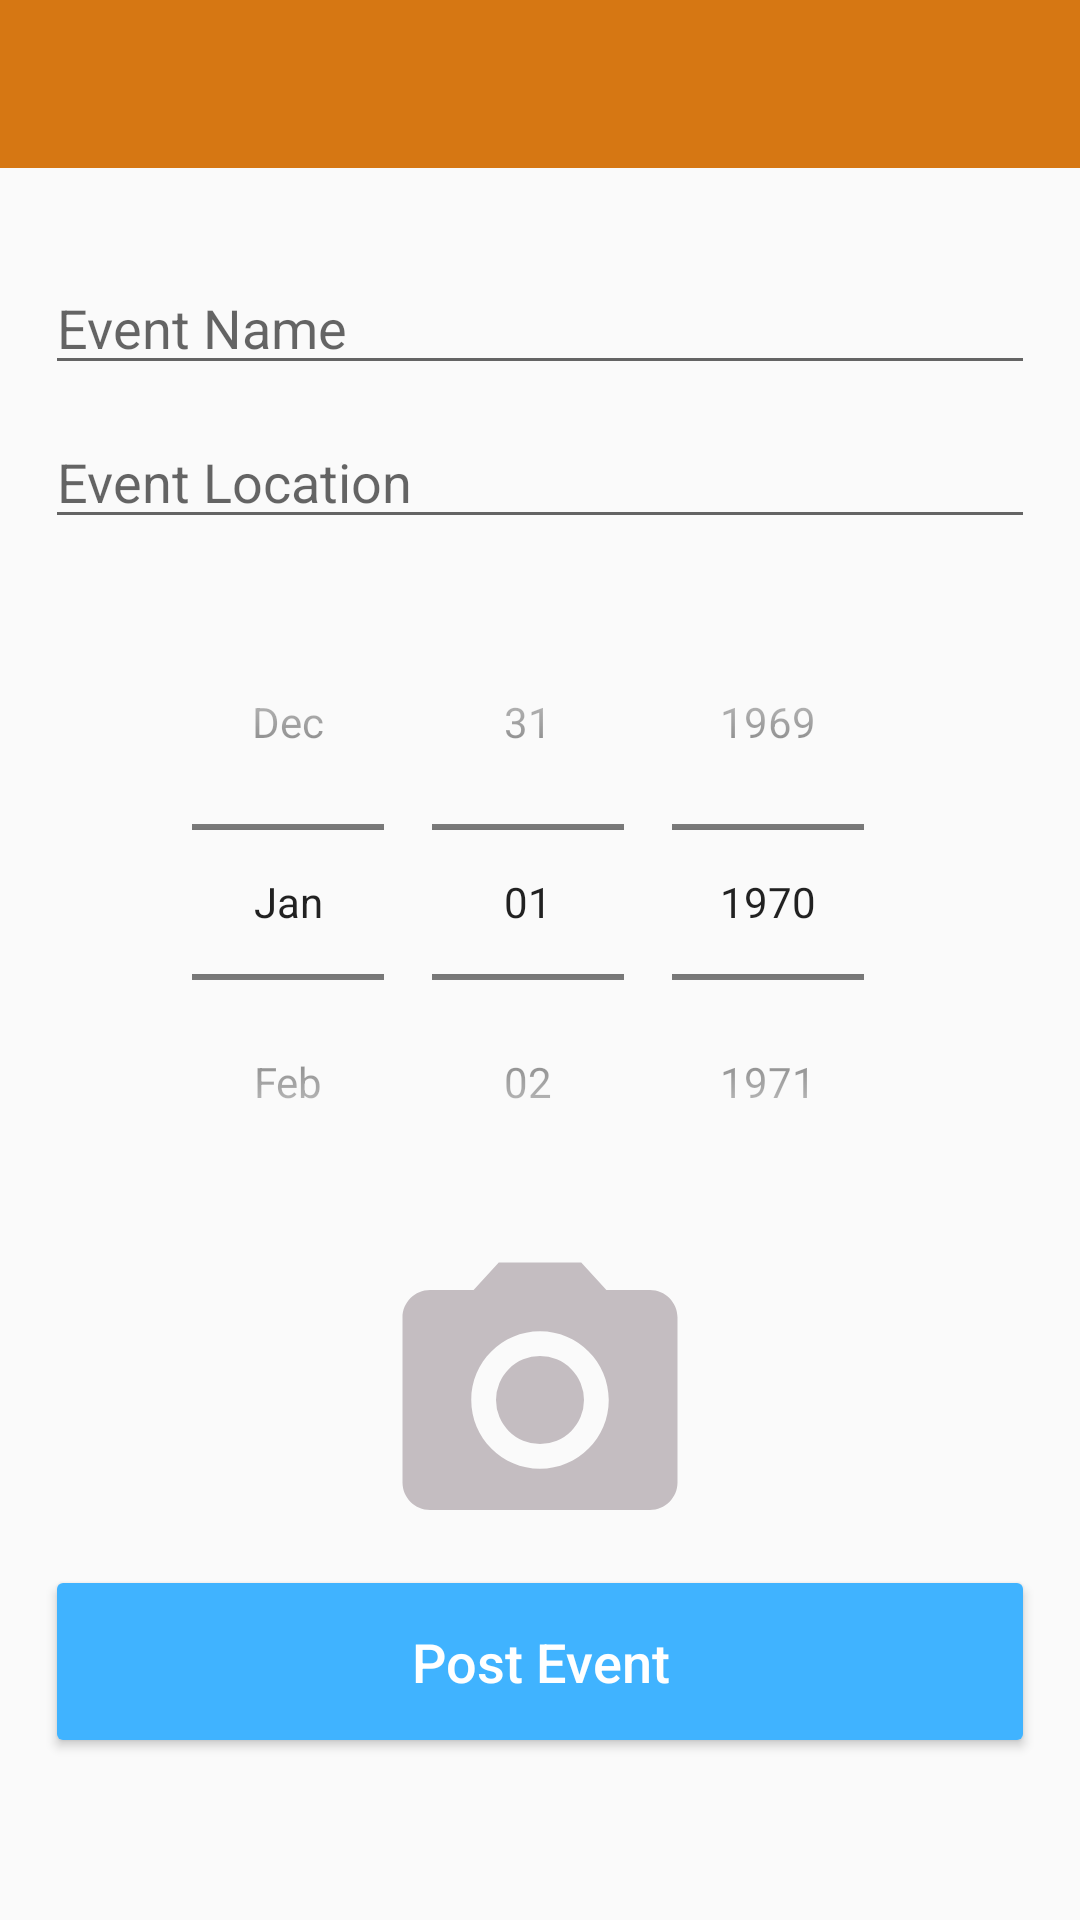

Named icons in this screenshot (1080 × 1920) and their centers, (x,y):
camera: (540,1386)
